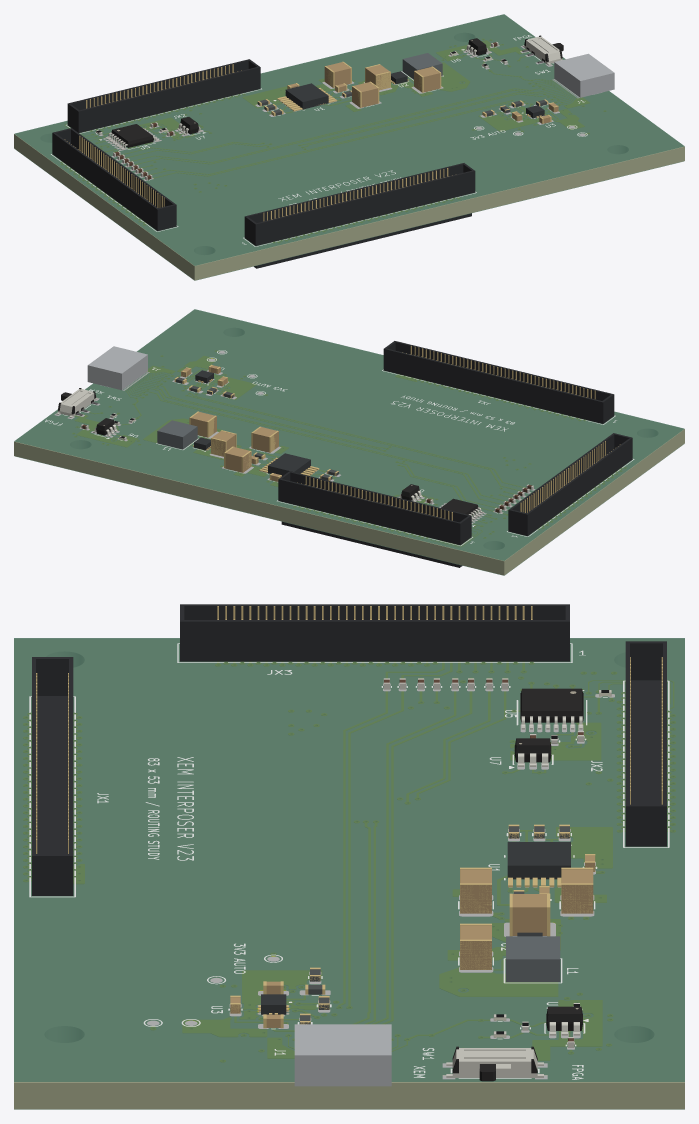
Rendered from Interposer_V23_Public_Complete.glb.
The picture shows the model from 3 angles, top to bottom: view 1: azimuth 30°, elevation 25°; view 2: azimuth 150°, elevation 25°; view 3: azimuth 270°, elevation 25°; orthographic projection. The views are drawn at different scales.
Visible parts, largest first — view 1: =>[0:1:1:19], =>[0:1:1:21], JX1, JX2, JX3, =>[0:1:1:14], J1, =>[0:1:1:17], =>[0:1:1:15], U1, =>[0:1:1:9], JB1 (+7 smaller); view 2: =>[0:1:1:19], =>[0:1:1:21], JX1, JX2, JX3, =>[0:1:1:14], J1, =>[0:1:1:17], =>[0:1:1:15], L1, U1, =>[0:1:1:13] (+7 smaller); view 3: =>[0:1:1:19], =>[0:1:1:21], JX3, =>[0:1:1:14], JX1, JX2, J1, =>[0:1:1:17], =>[0:1:1:13], =>[0:1:1:15], U1, L1 (+6 smaller).
Part boxes in pixels (x1=…): =>[0:1:1:19]: x1=14, y1=14, x2=684, y2=265; =>[0:1:1:21]: x1=14, y1=15, x2=684, y2=280; JX1: x1=244, y1=163, x2=475, y2=245; JX2: x1=67, y1=59, x2=260, y2=132; JX3: x1=52, y1=128, x2=176, y2=230; =>[0:1:1:14]: x1=65, y1=41, x2=589, y2=240; J1: x1=554, y1=53, x2=614, y2=97; =>[0:1:1:17]: x1=51, y1=35, x2=587, y2=246; =>[0:1:1:15]: x1=95, y1=45, x2=601, y2=180; U1: x1=277, y1=83, x2=337, y2=111; =>[0:1:1:9]: x1=105, y1=124, x2=159, y2=149; JB1: x1=254, y1=213, x2=471, y2=268; =>[0:1:1:19]: x1=14, y1=309, x2=684, y2=560; =>[0:1:1:21]: x1=14, y1=310, x2=684, y2=575; JX1: x1=383, y1=341, x2=614, y2=423; JX2: x1=278, y1=471, x2=471, y2=545; JX3: x1=508, y1=433, x2=632, y2=535; =>[0:1:1:14]: x1=75, y1=356, x2=613, y2=532; J1: x1=87, y1=346, x2=147, y2=390; =>[0:1:1:17]: x1=45, y1=350, x2=634, y2=545; =>[0:1:1:15]: x1=54, y1=351, x2=534, y2=524; L1: x1=157, y1=420, x2=197, y2=449; U1: x1=259, y1=453, x2=319, y2=476; =>[0:1:1:13]: x1=56, y1=388, x2=98, y2=417; =>[0:1:1:19]: x1=14, y1=638, x2=684, y2=1081; =>[0:1:1:21]: x1=14, y1=639, x2=684, y2=1109; JX3: x1=180, y1=604, x2=569, y2=661; =>[0:1:1:14]: x1=23, y1=663, x2=675, y2=1061; JX1: x1=32, y1=657, x2=73, y2=895; JX2: x1=625, y1=641, x2=666, y2=846; J1: x1=294, y1=1024, x2=391, y2=1086; =>[0:1:1:17]: x1=29, y1=643, x2=669, y2=1079; =>[0:1:1:13]: x1=446, y1=1046, x2=543, y2=1081; =>[0:1:1:15]: x1=147, y1=683, x2=614, y2=1079; U1: x1=507, y1=842, x2=570, y2=887; L1: x1=506, y1=936, x2=560, y2=981.
Size of the model in its own units: 0.0839 by 0.0074 by 0.053.
